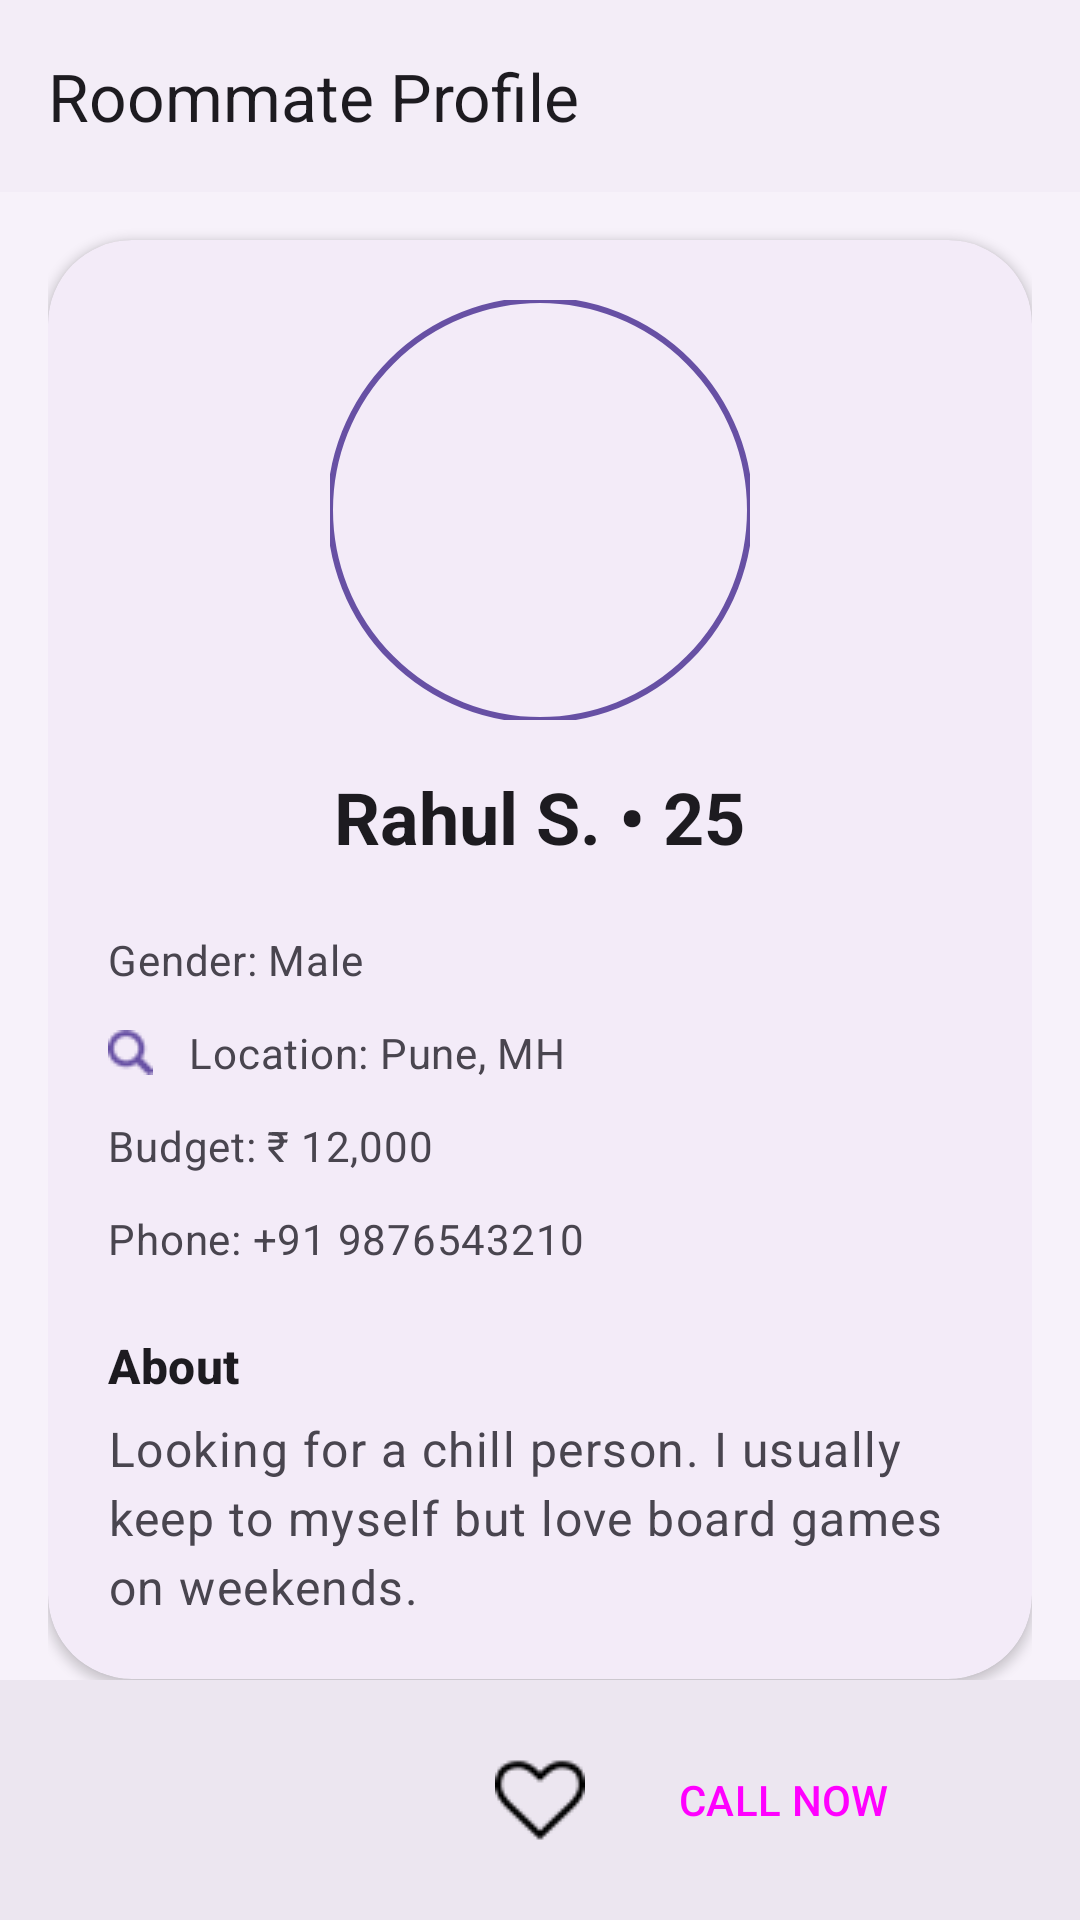

Screen size 1080 x 1920. Icon name, then its center in pixels as (x=x, y=y):
heart shape: (x=540, y=1800)
